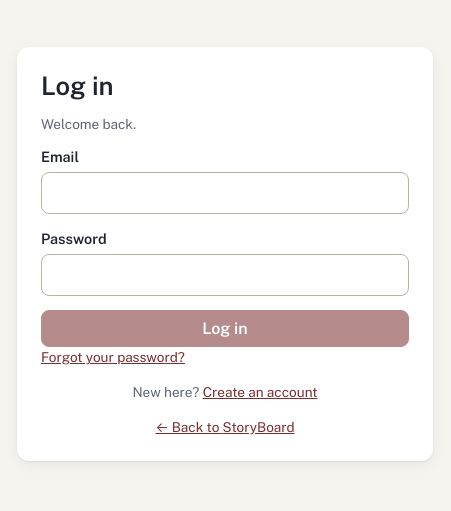
login page › shows the server's message for wrong credentials
Type "x@example.com" into the field labelled "Email" at [225, 193], box [41,172,409,214]
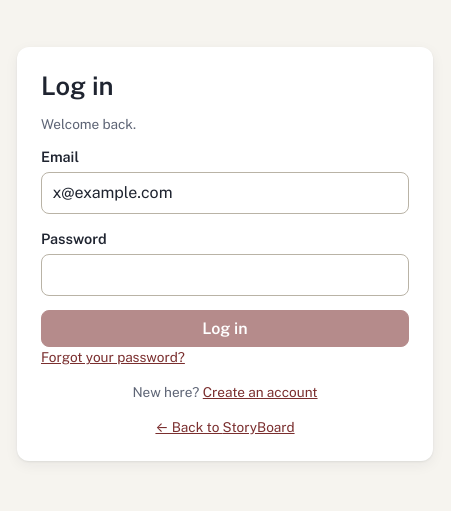
Type "pw-pw-pw-pw-1" into the password field labelled "Password" at [225, 275], box [41,254,409,296]
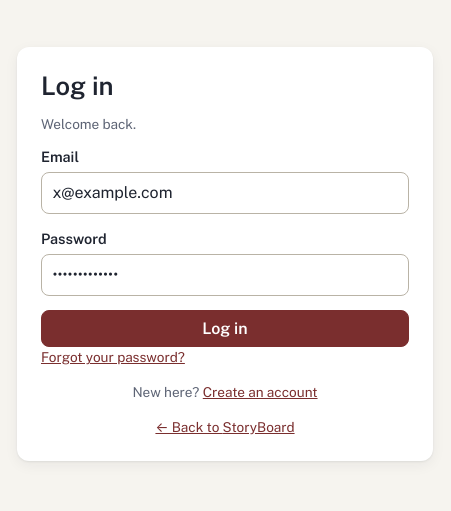
Click the button "Log in" at [225, 329], box [41,310,409,347]
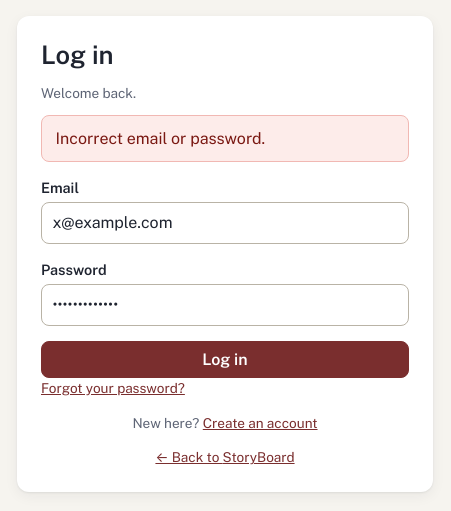
Now the message reads "Incorrect email or password.", box [56,129,265,148]
